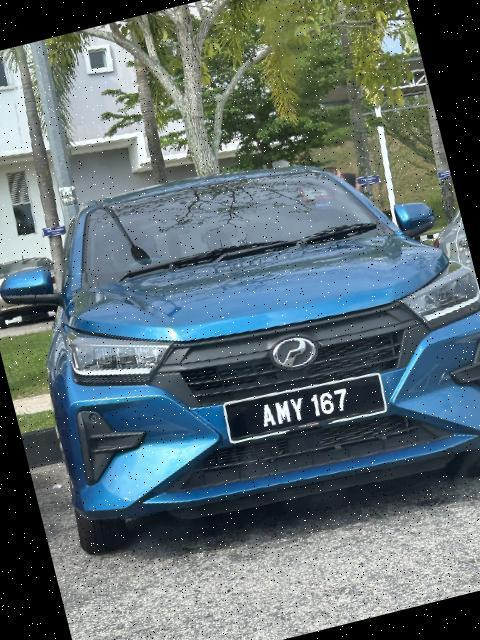AMY167: (224, 364, 389, 450)
License_Plate: (224, 364, 389, 450)
